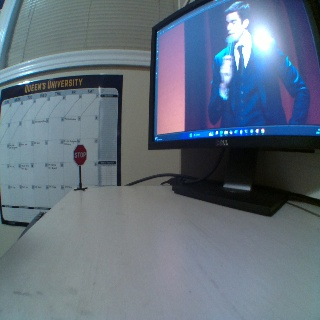sign_stop: (73, 145, 86, 164)
